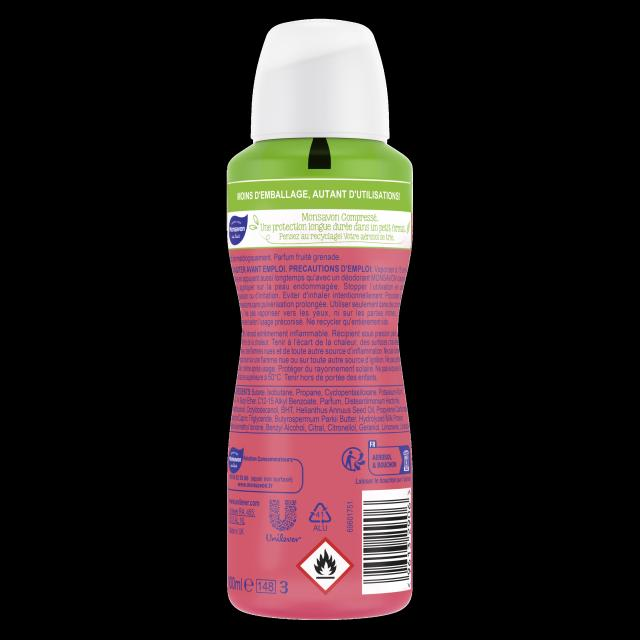GHS_Symbol_FLAME: (297, 536, 356, 595)
